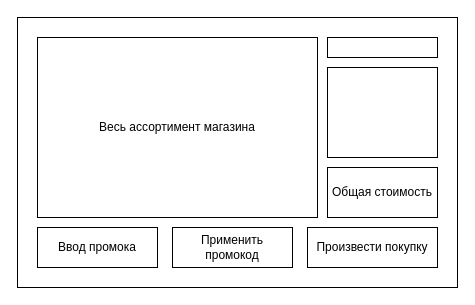
Some shapes in this 475 by 305 pixel diagram are drawn without their labels. The box of each missing label's shape, as (x1, y1, x2, y2) in pixels:
Выбранные товары: (326, 66, 438, 158)
Закрыть смену: (326, 36, 438, 58)
